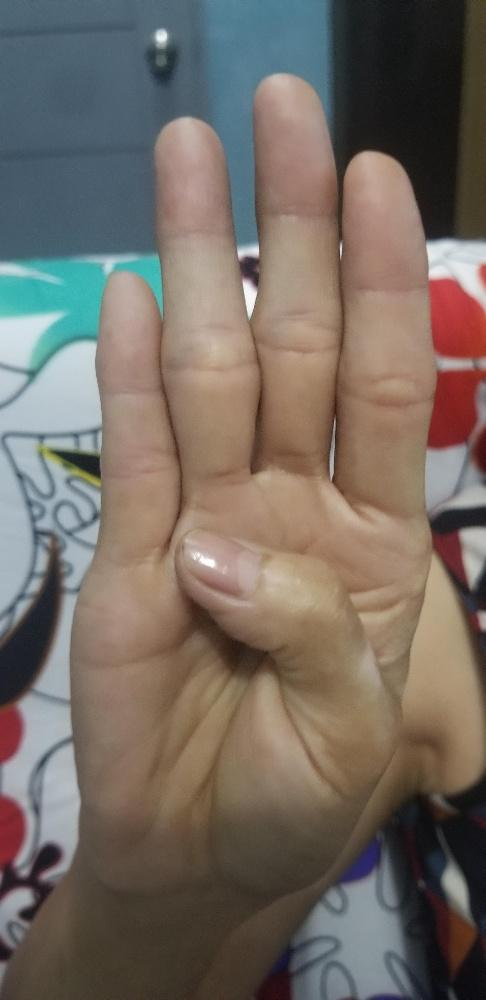b: (61, 68, 439, 890)
